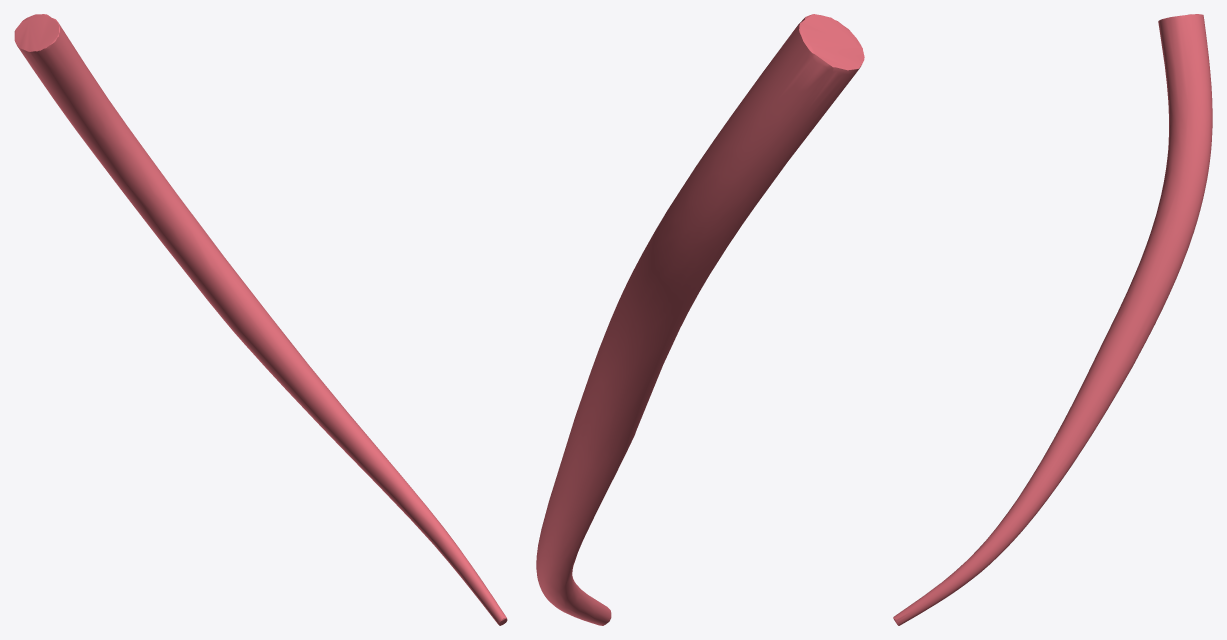
Rendered from fma8645_fj2883.glb.
The picture shows the model from 3 angles, left to right: view 1: azimuth 30°, elevation 25°; view 2: azimuth 150°, elevation 25°; view 3: azimuth 270°, elevation 25°; orthographic projection. The views are drawn at different scales.
Parts seen in each view (by area): view 1: FMA8645_FJ2883; view 2: FMA8645_FJ2883; view 3: FMA8645_FJ2883.
Part boxes in pixels (bbox=[...]): FMA8645_FJ2883: bbox=[14, 14, 507, 625]; FMA8645_FJ2883: bbox=[536, 14, 864, 625]; FMA8645_FJ2883: bbox=[893, 14, 1212, 625].
Bounding box in the file's own units: 0.0687 × 0.1132 × 0.0671.
